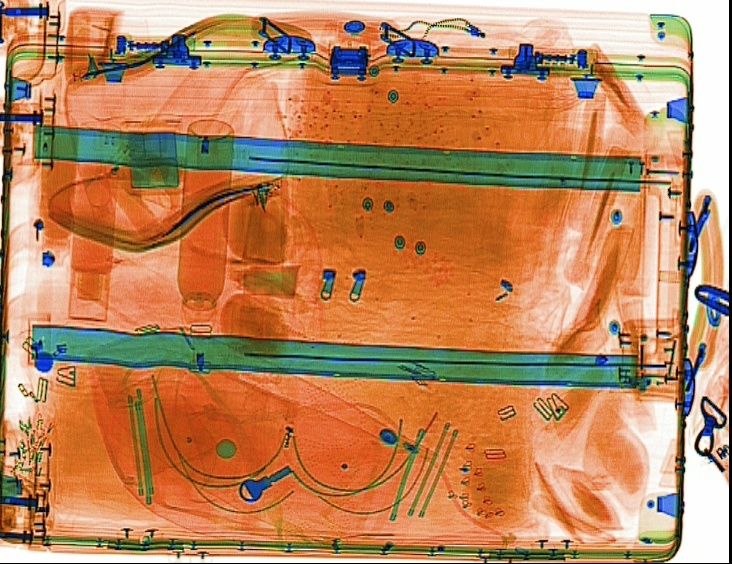pressure: (177, 119, 237, 335)
